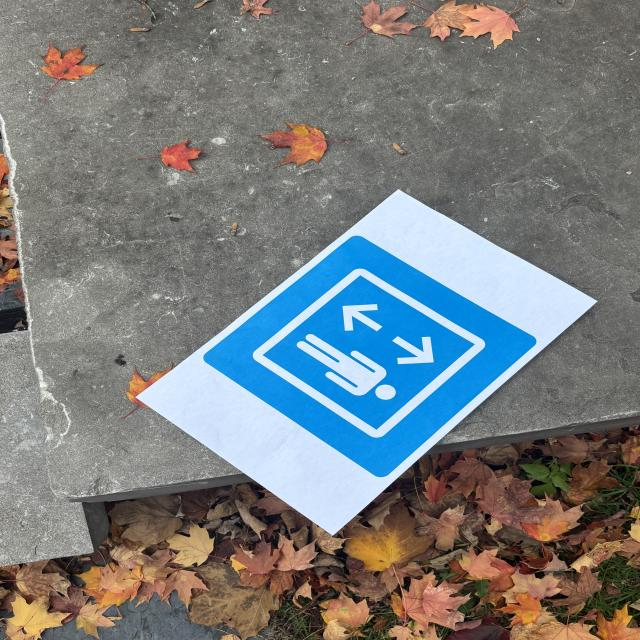elevator: (202, 238, 540, 481)
